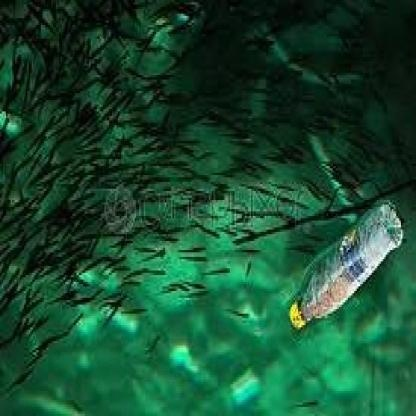pbottle: (282, 193, 406, 336)
